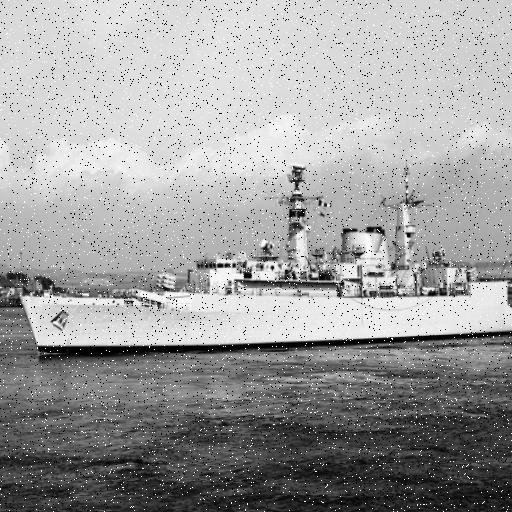Fragata: (17, 143, 512, 366)
